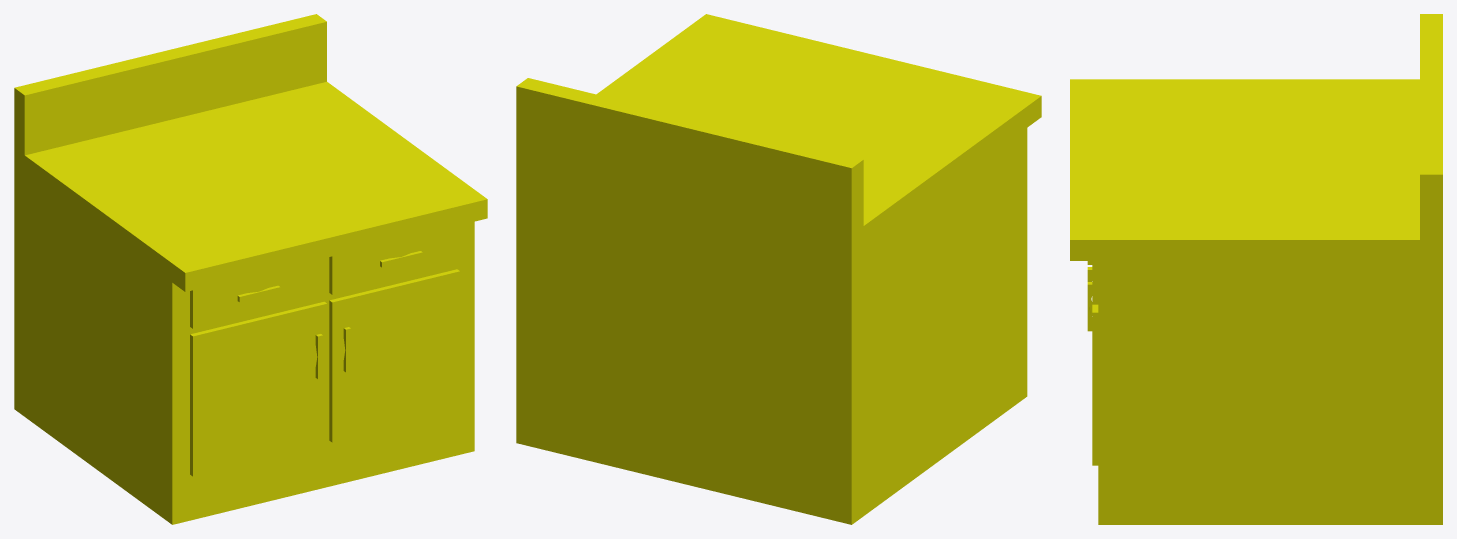
File: KitchenCounter.fbx
3 renders of one model, left to right at view 1: azimuth 30°, elevation 25°; view 2: azimuth 150°, elevation 25°; view 3: azimuth 270°, elevation 25°, orthographic. The views are drawn at different scales.
Parts seen in each view (by area): view 1: Counter; view 2: Counter; view 3: Counter.
Boxes of the visible parts, x1,y1,x2,y2 form: Counter: [14, 14, 487, 524]; Counter: [516, 14, 1041, 524]; Counter: [1070, 14, 1442, 524].
Size of the model in its own units: 111 by 113 by 109.
